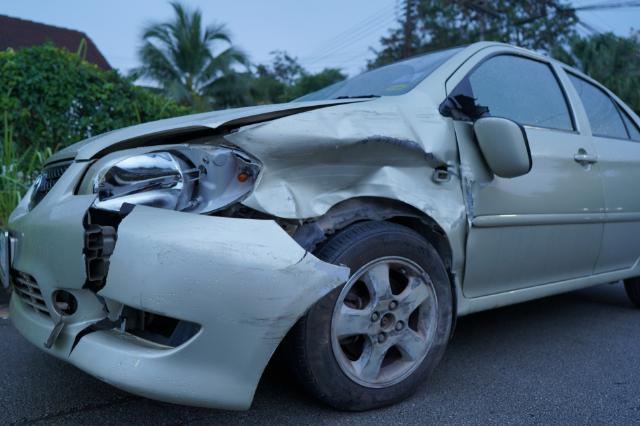Bumper: (17, 204, 308, 405)
Fender: (248, 115, 461, 229)
Light: (85, 140, 253, 209)
